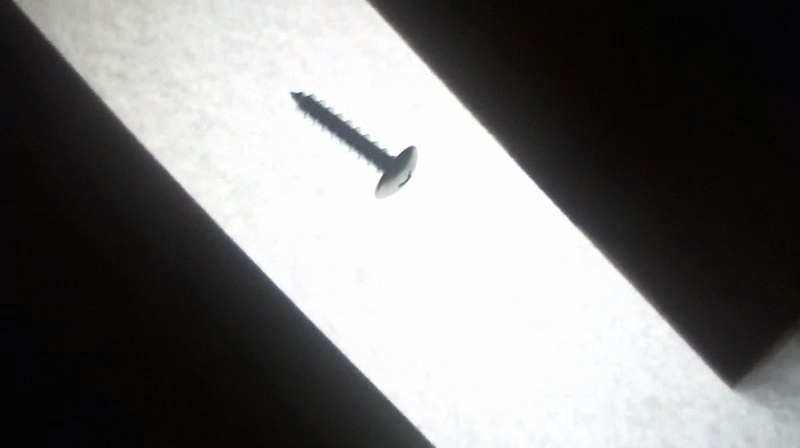S003: (284, 89, 422, 202)
